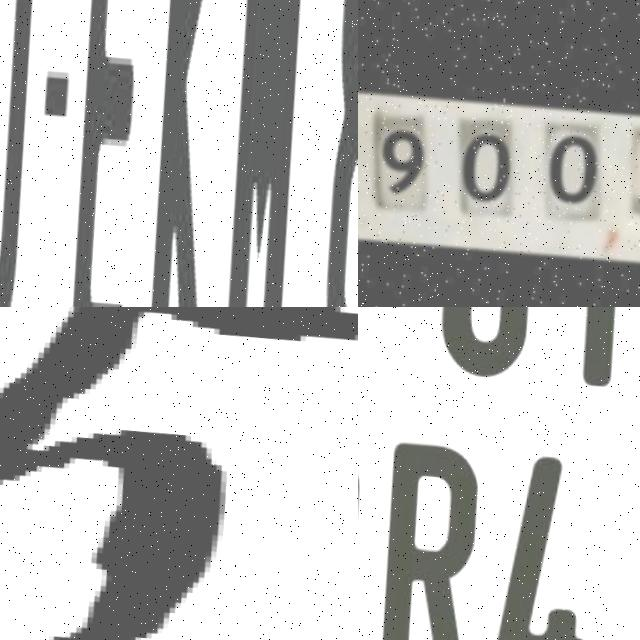0: (423, 101, 538, 231), (511, 107, 623, 230)
1: (538, 307, 637, 386)
3: (596, 109, 640, 235)
4: (474, 447, 606, 640)
5: (0, 307, 358, 640)
6: (425, 307, 544, 385)
8: (292, 0, 358, 307)
9: (358, 100, 446, 219)
D: (0, 0, 62, 307)
E: (42, 0, 172, 307)
K: (121, 0, 258, 307)
M: (196, 0, 329, 307)
R: (360, 440, 484, 640)
